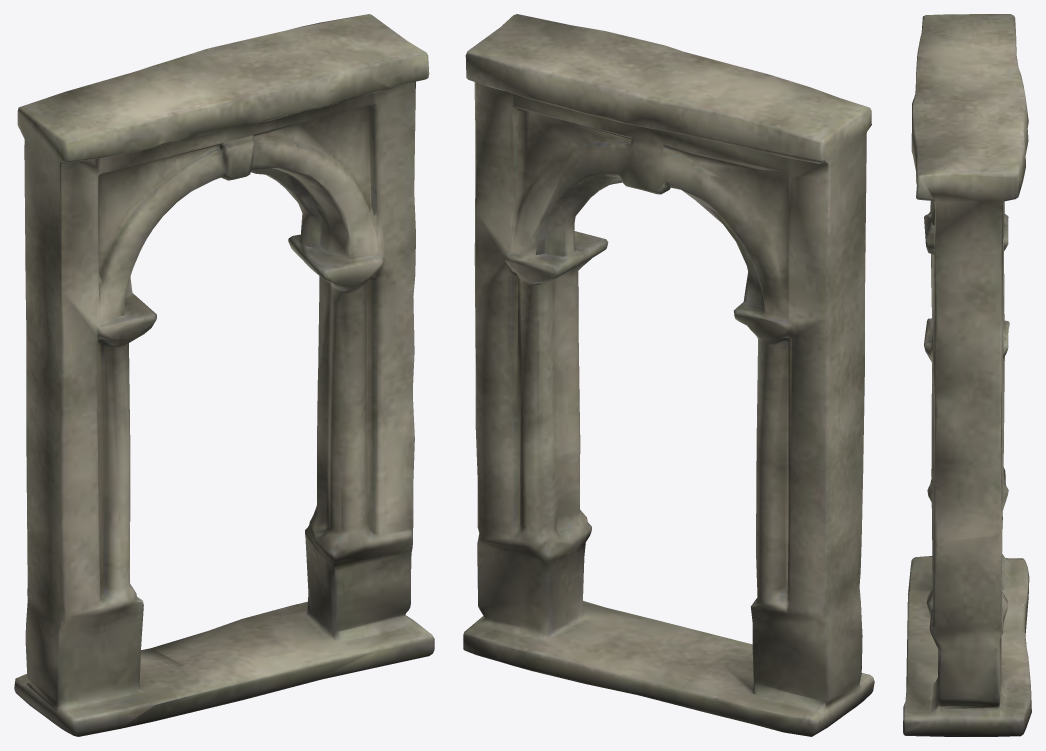
File: weathered-limestone-arched-doorway-v001.glb
3 views of the same model, side by side, from view 1: azimuth 30°, elevation 25°; view 2: azimuth 150°, elevation 25°; view 3: azimuth 270°, elevation 25° (orthographic). The views are drawn at different scales.
Parts seen in each view (by area): view 1: weathered-limestone-arched-doorway; view 2: weathered-limestone-arched-doorway; view 3: weathered-limestone-arched-doorway.
Boxes of the visible parts, x1,y1,x2,y2 form: weathered-limestone-arched-doorway: (14, 14, 434, 736); weathered-limestone-arched-doorway: (463, 14, 874, 736); weathered-limestone-arched-doorway: (903, 14, 1031, 736).
Size of the model in its own units: 1.88 by 3 by 0.6164.
Materials: 1 (1 with a texture image).
